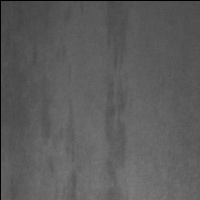inclusion: (102, 4, 135, 196), (56, 89, 88, 197), (33, 71, 59, 146)
